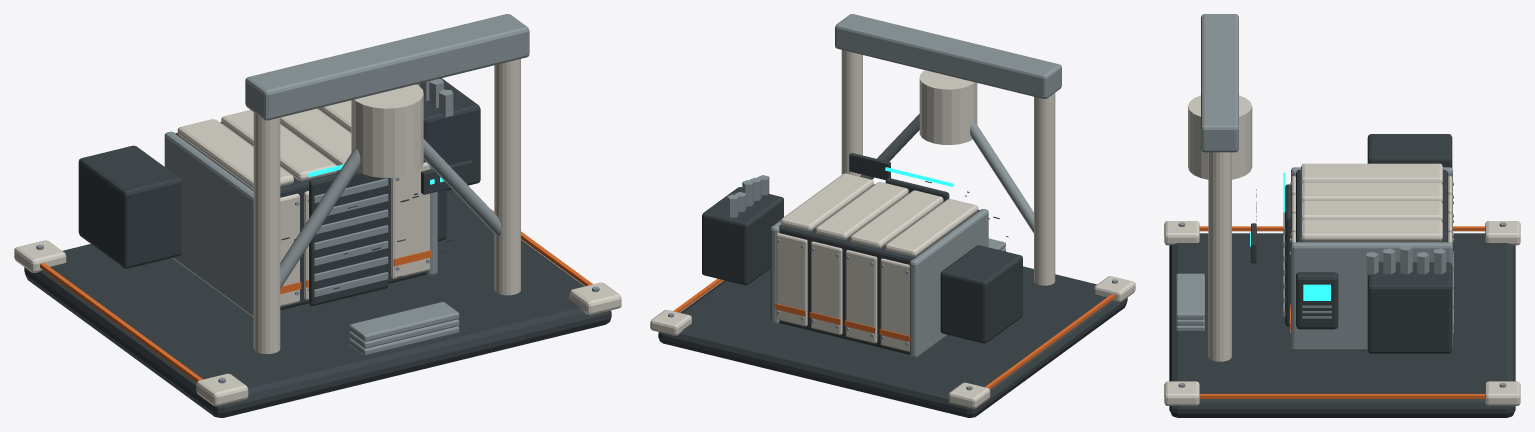
The model's file is SM_RareMineralMine_Body.001.fbx.
3 views of the same model, side by side, from view 1: azimuth 30°, elevation 25°; view 2: azimuth 150°, elevation 25°; view 3: azimuth 270°, elevation 25° (orthographic). The views are drawn at different scales.
Parts seen in each view (by area): view 1: SM_RareMineralMine_Body.001; view 2: SM_RareMineralMine_Body.001; view 3: SM_RareMineralMine_Body.001.
Part boxes in pixels (x1,y1,x2,y2): SM_RareMineralMine_Body.001: [14, 14, 621, 417]; SM_RareMineralMine_Body.001: [650, 14, 1135, 417]; SM_RareMineralMine_Body.001: [1164, 14, 1520, 417].
Bounding box in the file's own units: 492 × 422 × 347.
